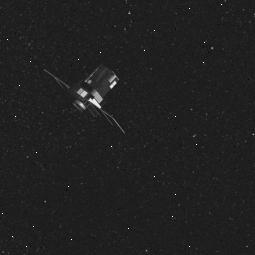soho: (42, 61, 132, 136)
